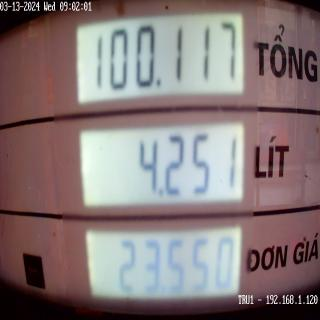screen: (68, 0, 254, 318)
